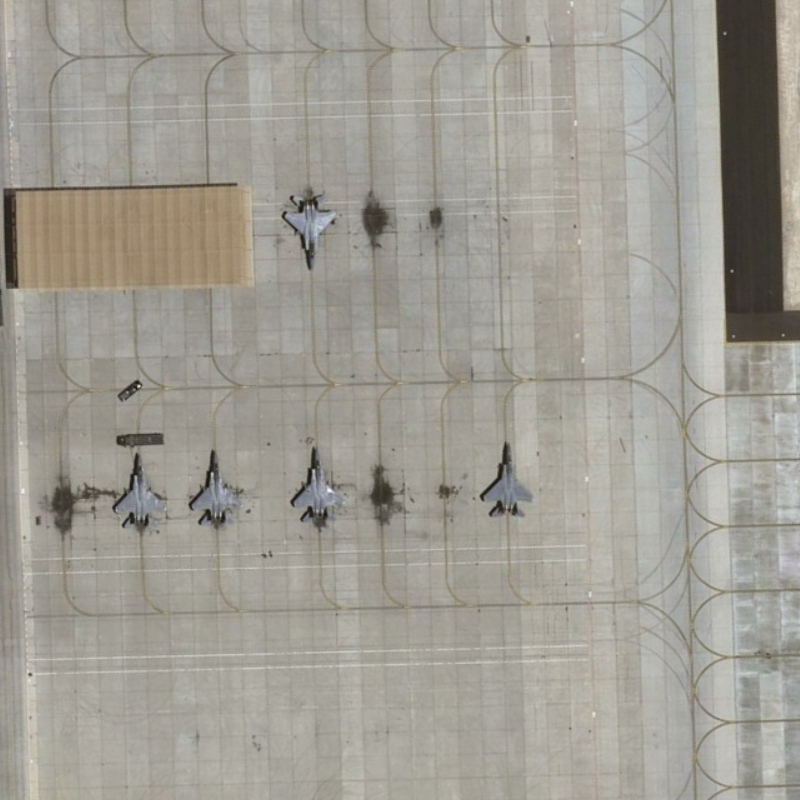A13: (273, 183, 344, 279), (286, 438, 352, 535), (104, 449, 172, 536), (182, 444, 249, 532), (475, 437, 539, 524)
